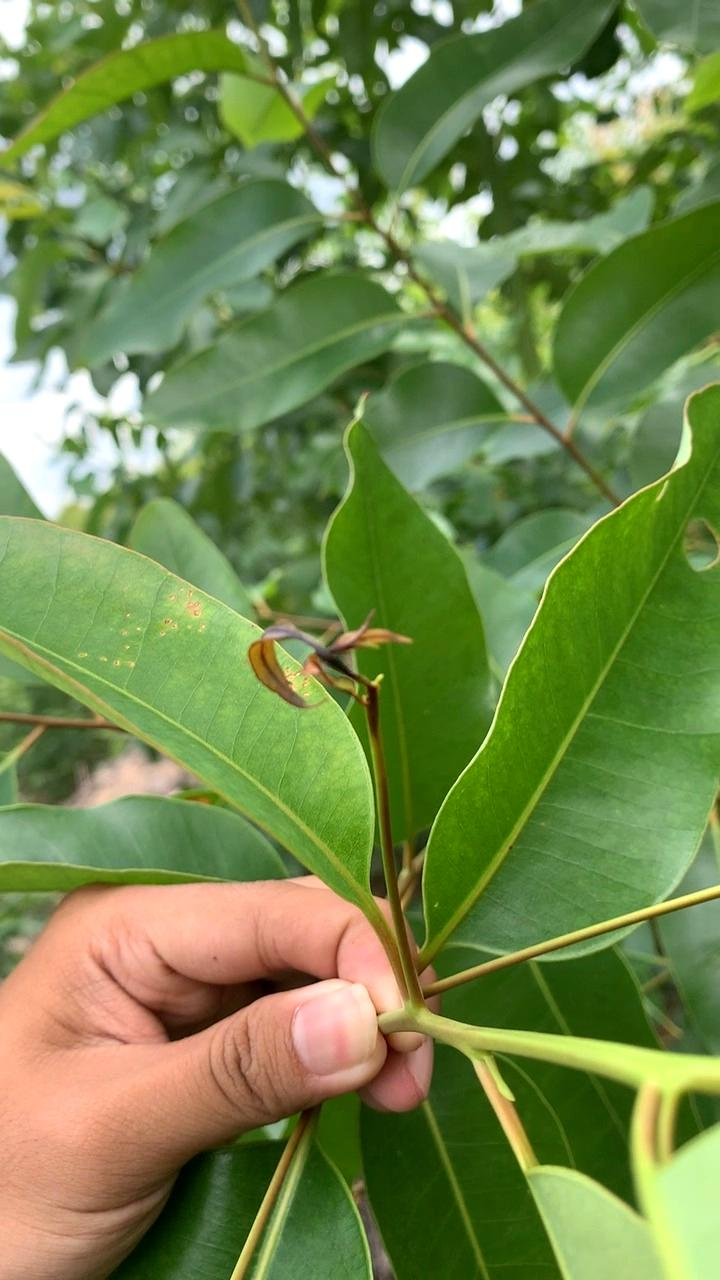Helopeltis-Withered Sprout: (231, 600, 426, 723)
